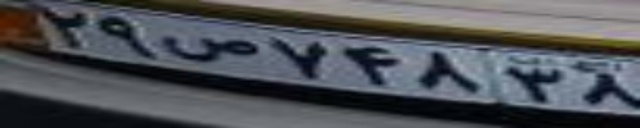2: (39, 8, 90, 50)
3: (504, 63, 564, 103)
4: (339, 44, 400, 86)
7: (263, 36, 330, 78)
8: (413, 49, 480, 94), (577, 71, 638, 110)
9: (96, 14, 153, 57)
saat: (158, 33, 258, 64)
